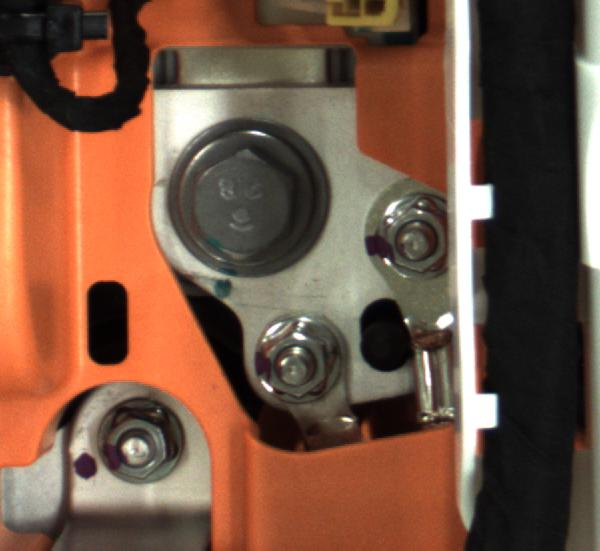nut_b: (152, 103, 333, 271)
screw_s: (368, 195, 470, 298), (237, 314, 348, 405), (92, 411, 202, 489)
